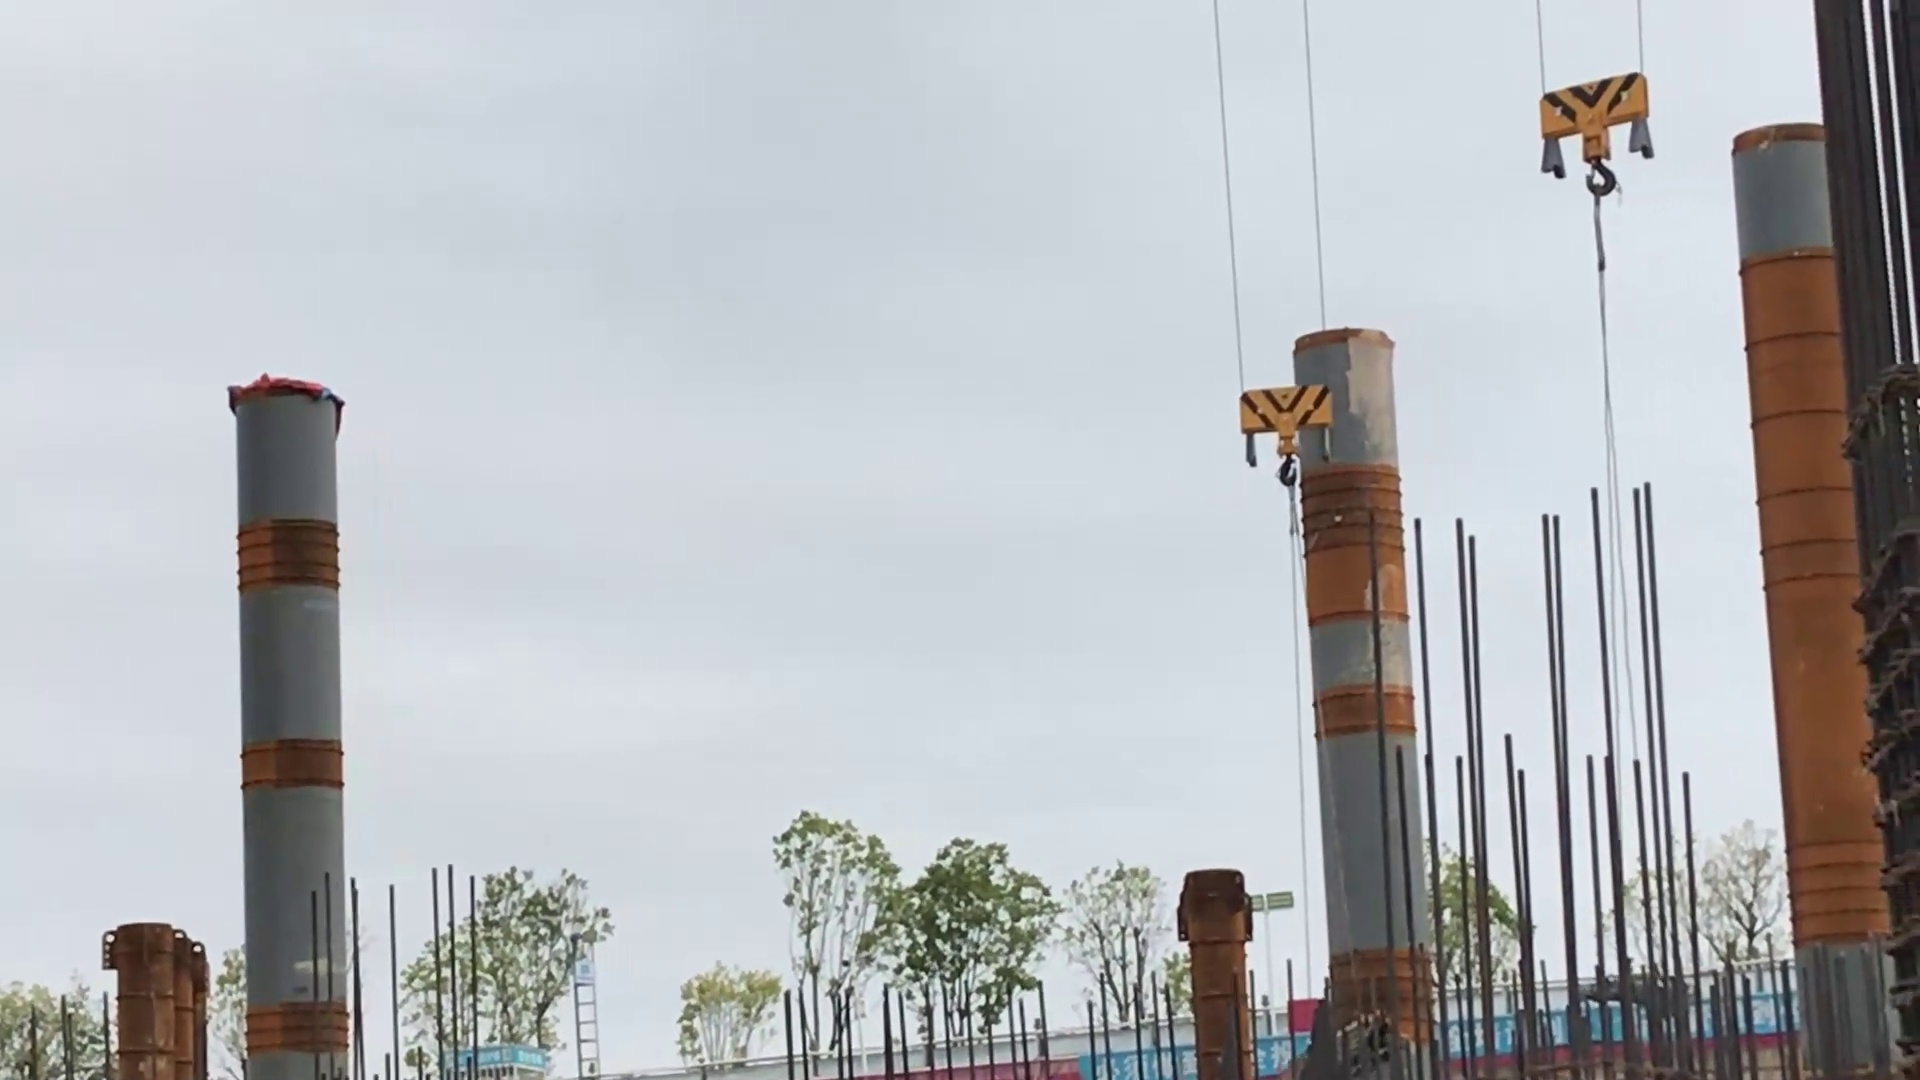hook: (1539, 67, 1654, 202), (1238, 380, 1335, 491)
slogan: (1093, 1040, 1316, 1080), (436, 1048, 551, 1073)
